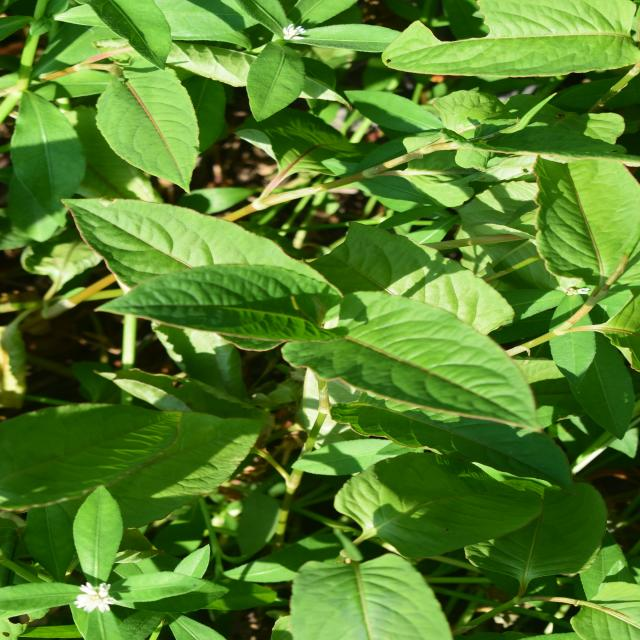Chinese_knotweed: (229, 68, 446, 510)
